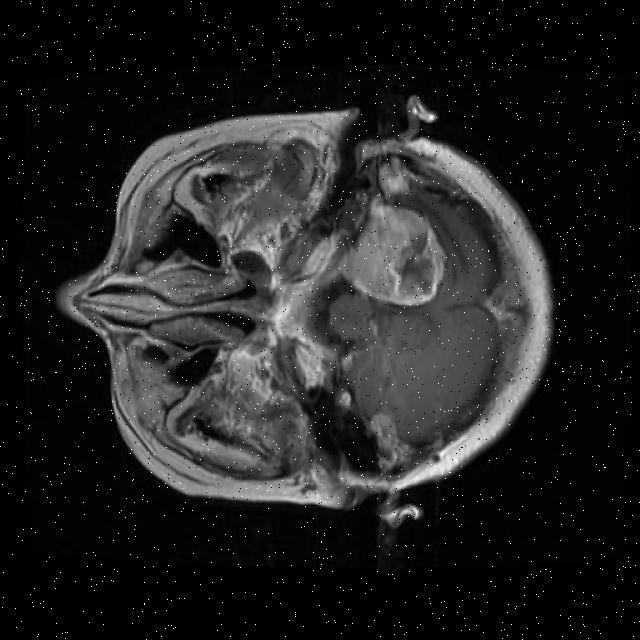Meningioma: (338, 197, 444, 305)
